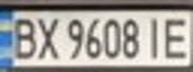0: (103, 15, 124, 60)
6: (81, 15, 106, 60)
8: (121, 15, 145, 60)
9: (60, 15, 84, 61)
B: (6, 14, 39, 61)
E: (160, 14, 193, 61)
I: (142, 13, 169, 60)
X: (33, 12, 60, 61)
